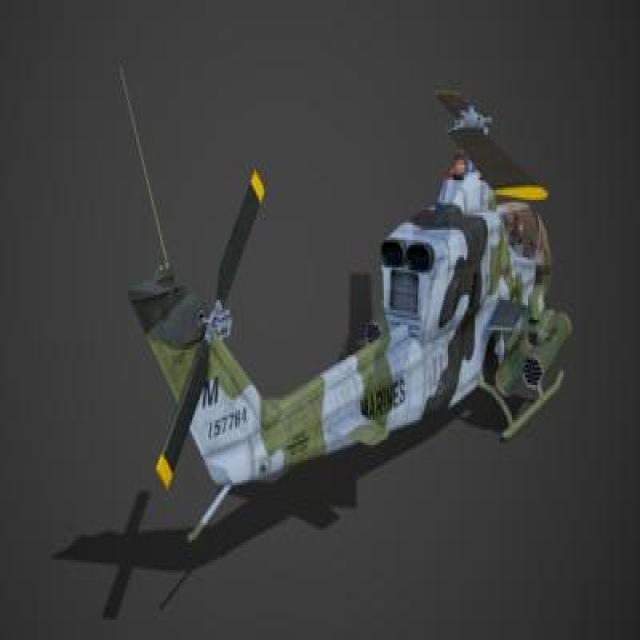MIL_HELO: (111, 88, 587, 546)
